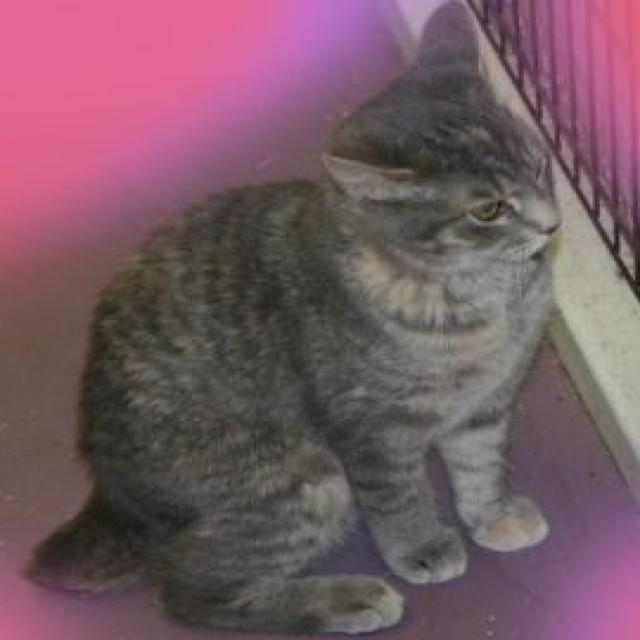American Bobtail: (14, 0, 569, 640)
